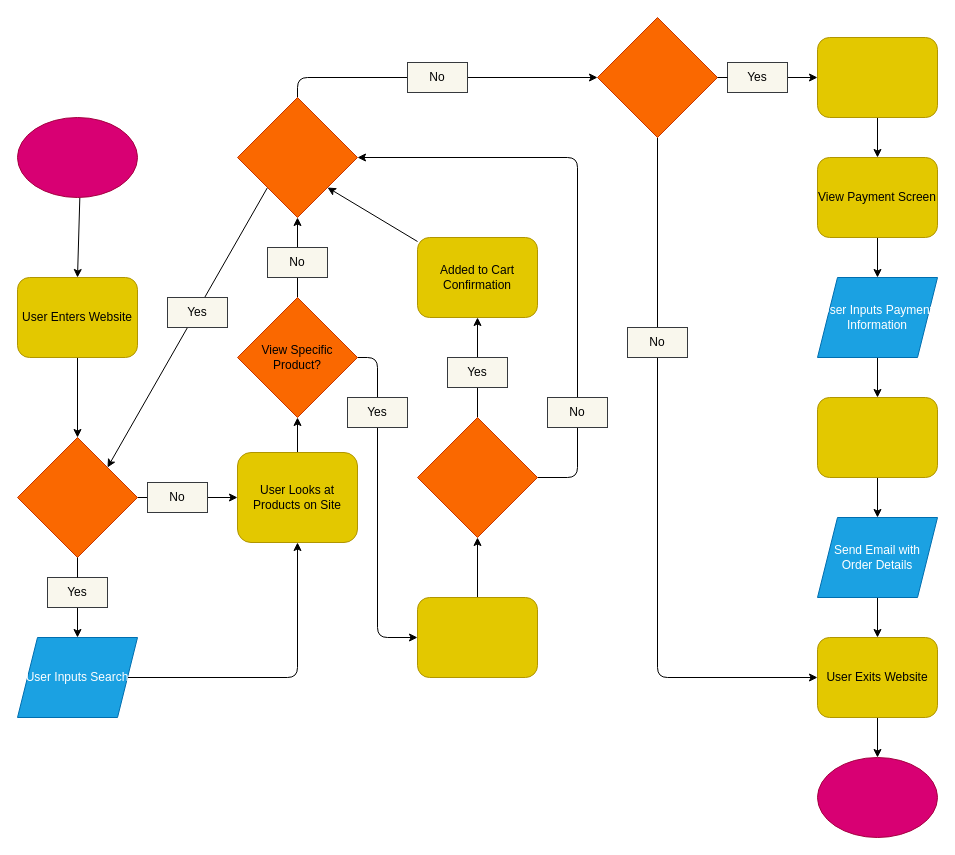
The diagram is 955 pixels wide and 855 high, and some of its shapes have lost their labels. Each missing label, with the box of its shape:
Add to Cart?: (416, 416, 538, 538)
Checkout?: (596, 16, 718, 138)
Continue Shopping?: (236, 96, 358, 218)
End: (816, 756, 938, 838)
Order Confirmation Screen: (816, 396, 938, 478)
Product's Webpage Displays: (416, 596, 538, 678)
Search for Product?: (16, 436, 138, 558)
Start: (16, 116, 138, 198)
View Cart Screen: (816, 36, 938, 118)
